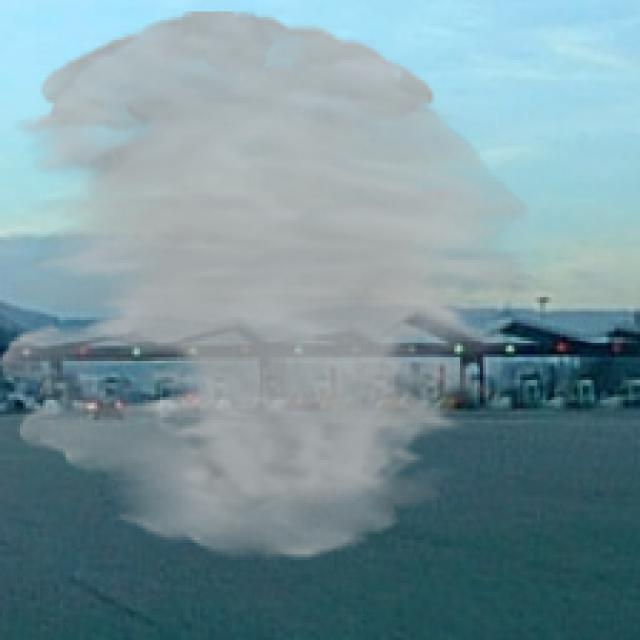Smoke: (0, 11, 532, 560)
